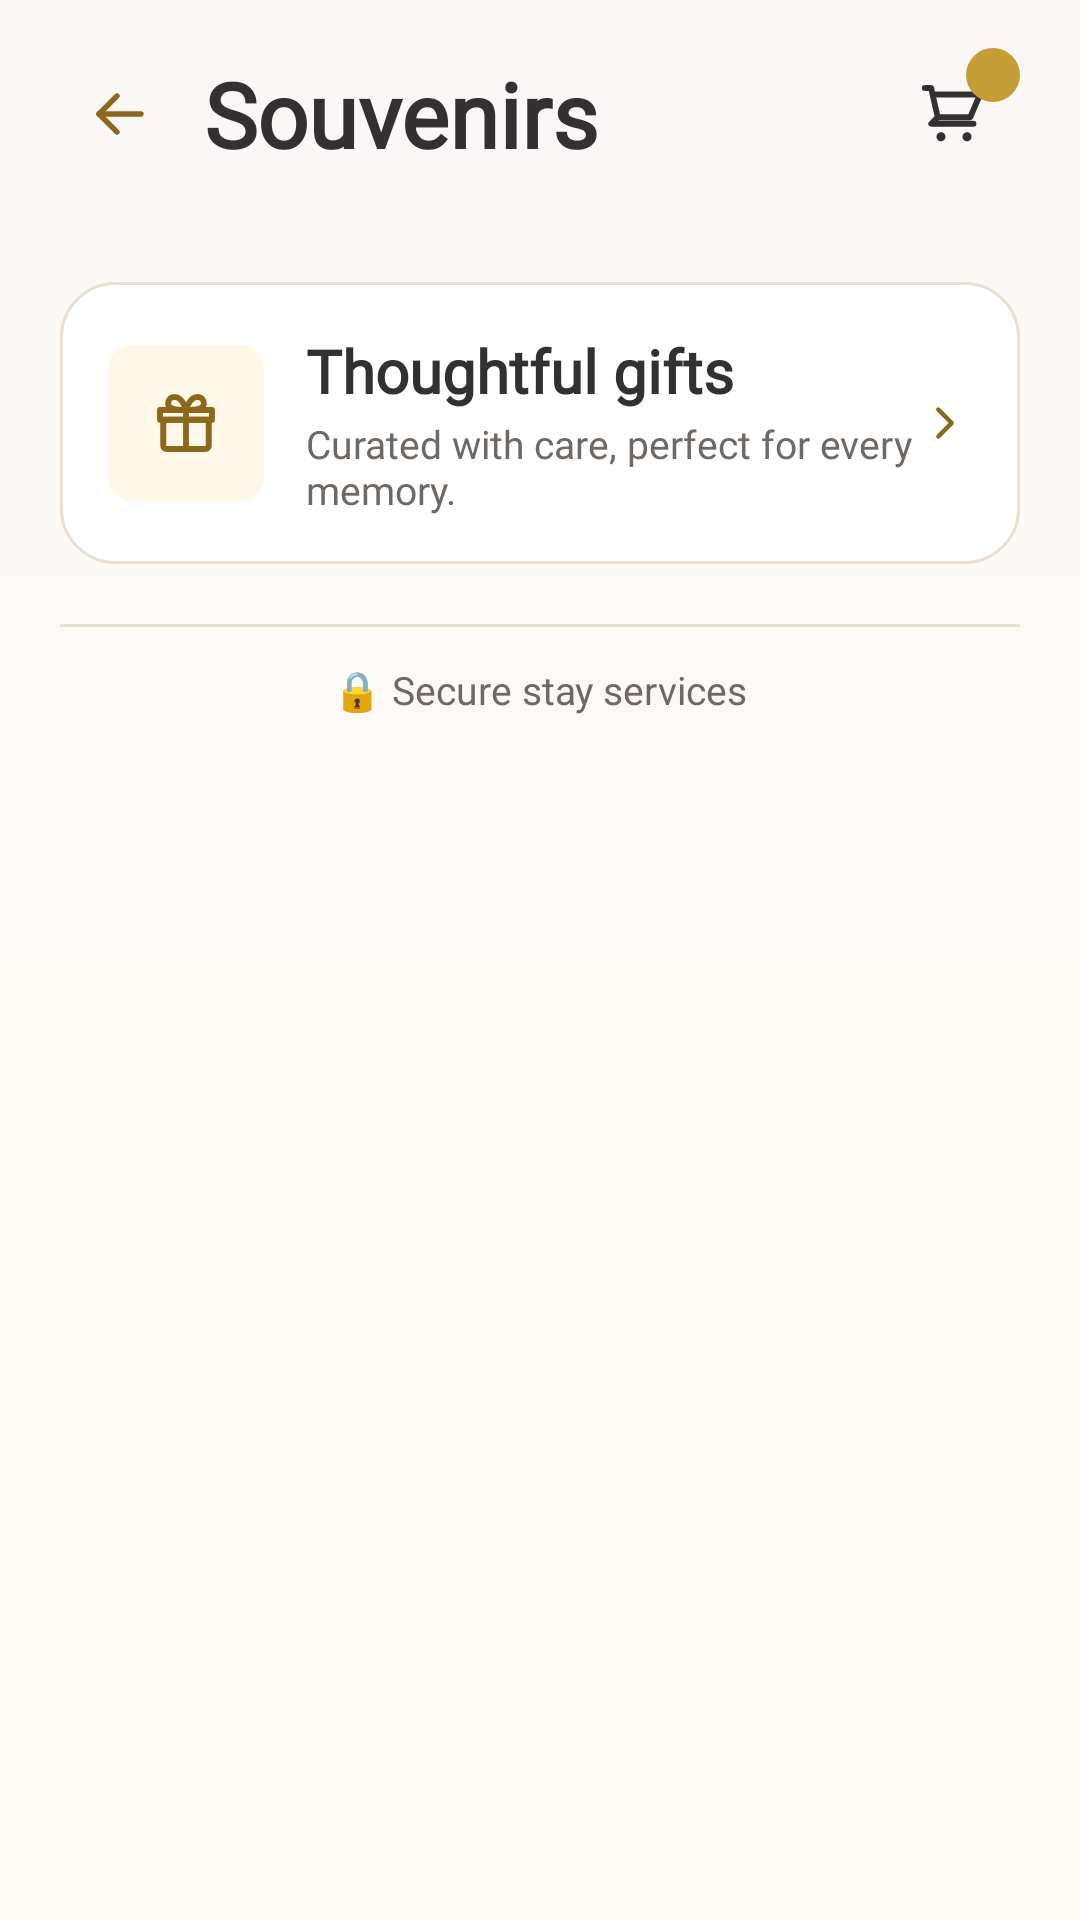

Icon click points for this 1080px x 1920px phone screenshot, format (x,y):
arrowleft: (120,114)
chevronright: (945,423)
